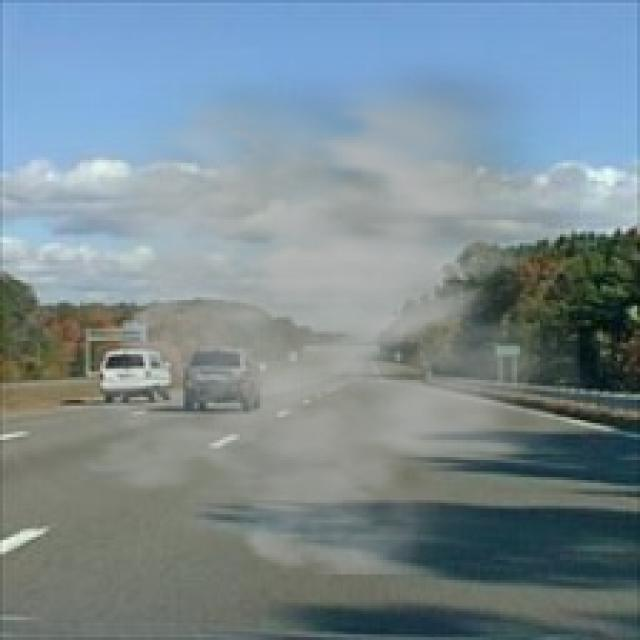smoke: (31, 52, 580, 574)
